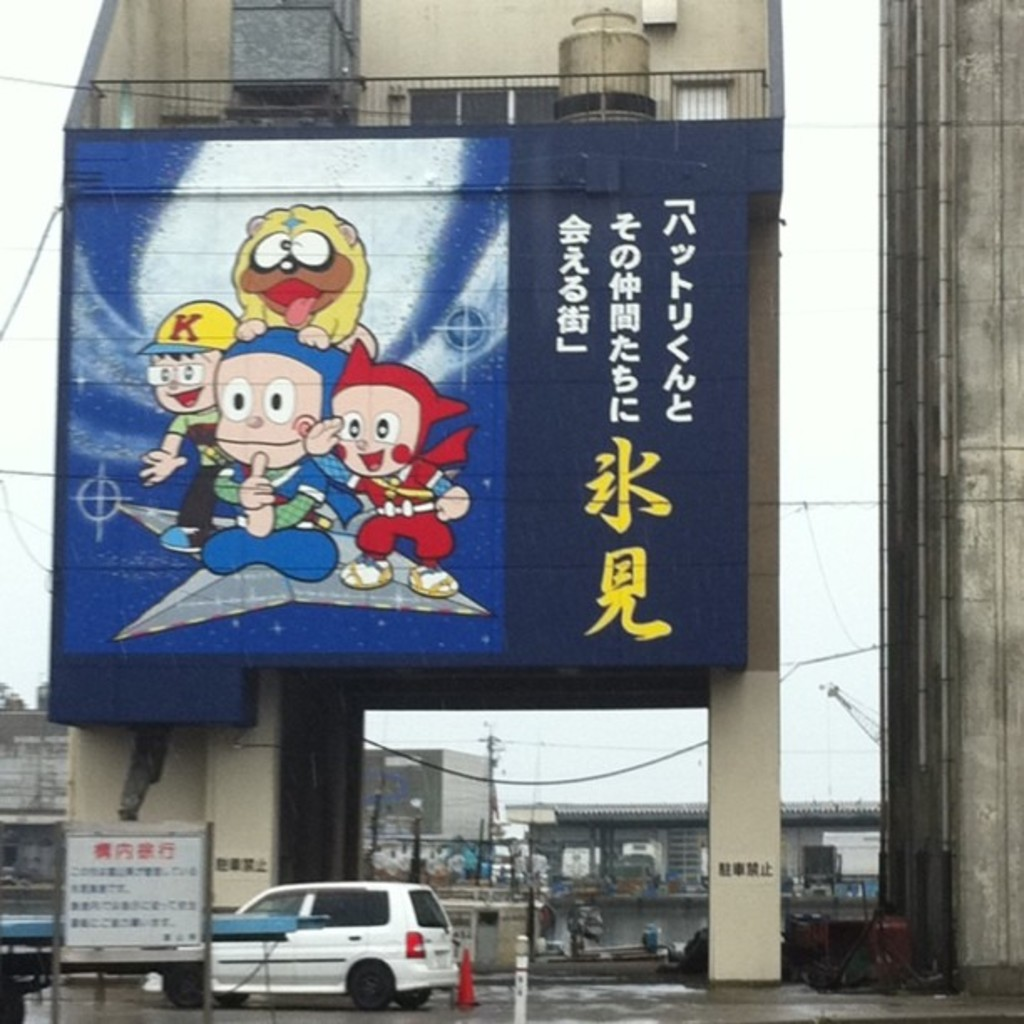Car: (158, 881, 461, 1012)
